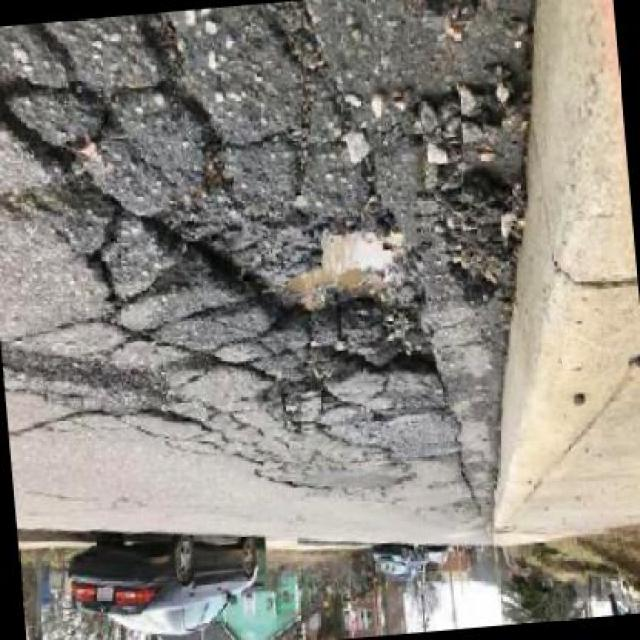pothole1: (141, 176, 442, 404)
